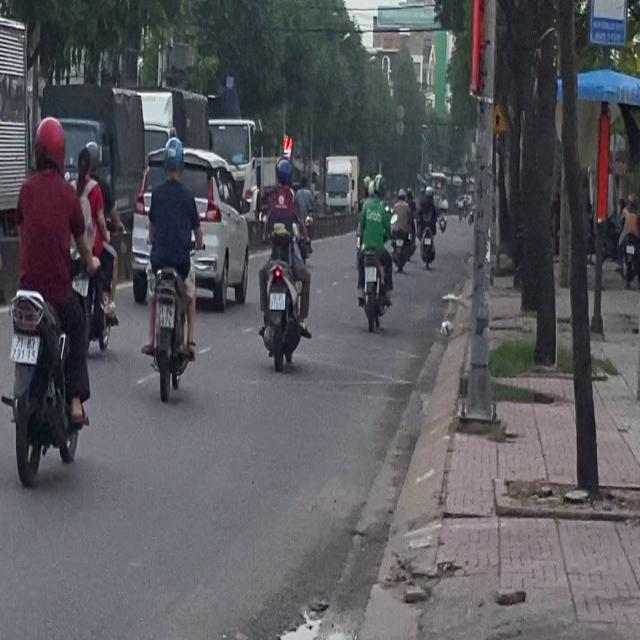helmet: (31, 114, 68, 174), (162, 135, 184, 179), (84, 138, 101, 172), (275, 157, 293, 186)
licenseplate: (0, 114, 93, 485), (140, 136, 202, 398), (255, 154, 312, 368)
motorcyclist: (76, 147, 92, 182)
nohelmet: (10, 334, 38, 362), (156, 304, 173, 327), (269, 293, 285, 310)
